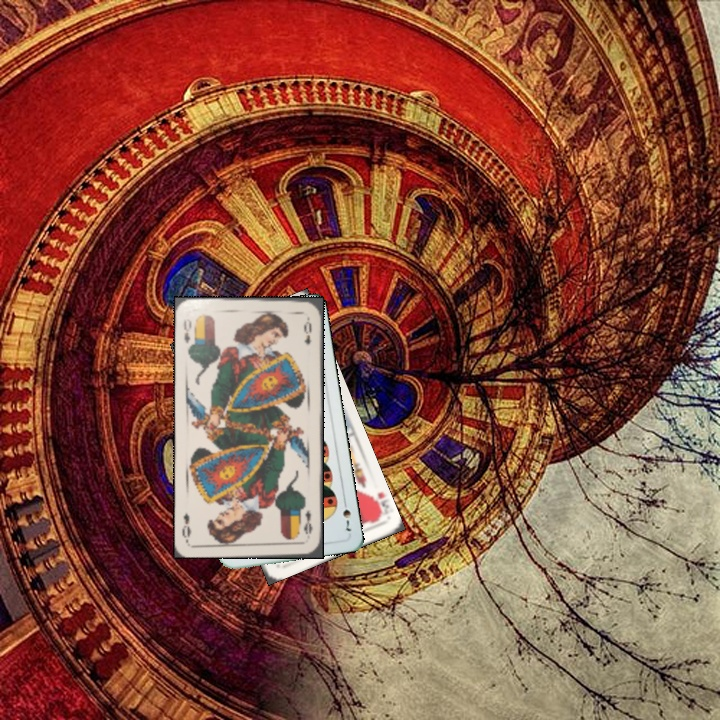EO: (300, 506, 315, 537), (180, 315, 194, 345)
HK: (365, 488, 387, 522)
S7: (339, 495, 354, 534)
